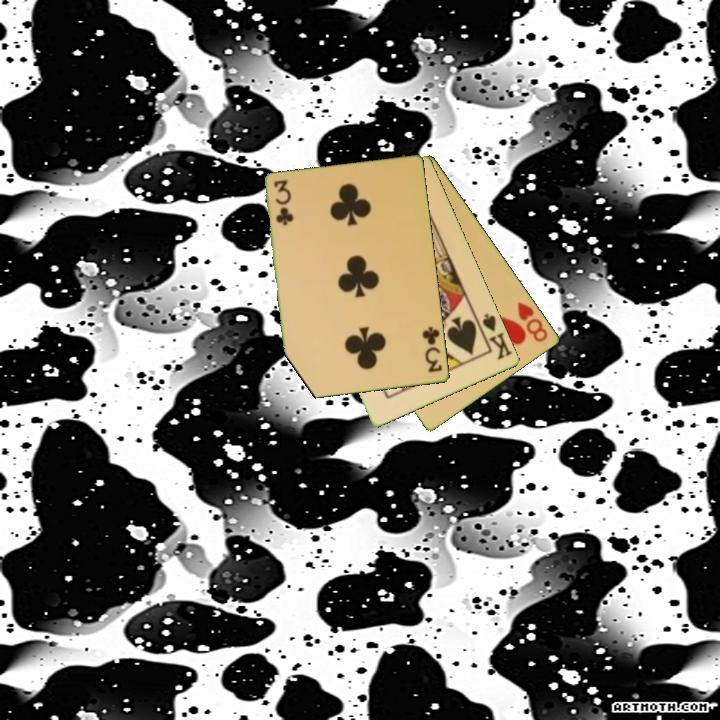3c: (419, 323, 445, 375), (270, 177, 294, 229)
8h: (514, 298, 551, 345)
Ks: (479, 310, 515, 363)
